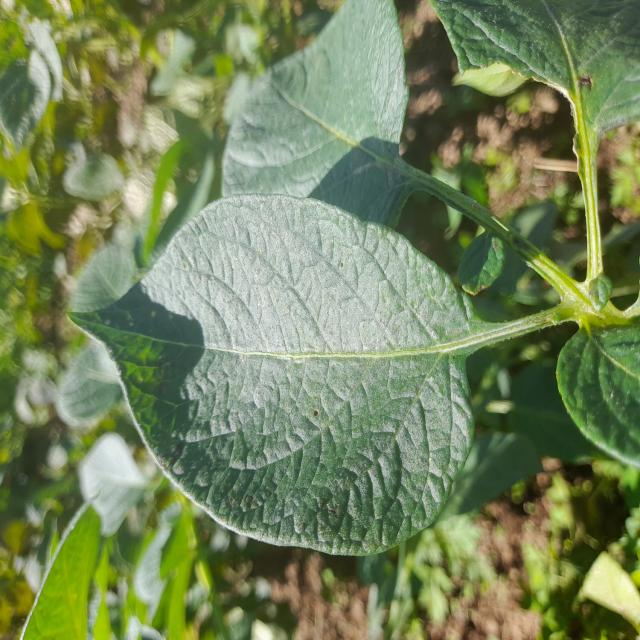healthy: (67, 190, 480, 559)
